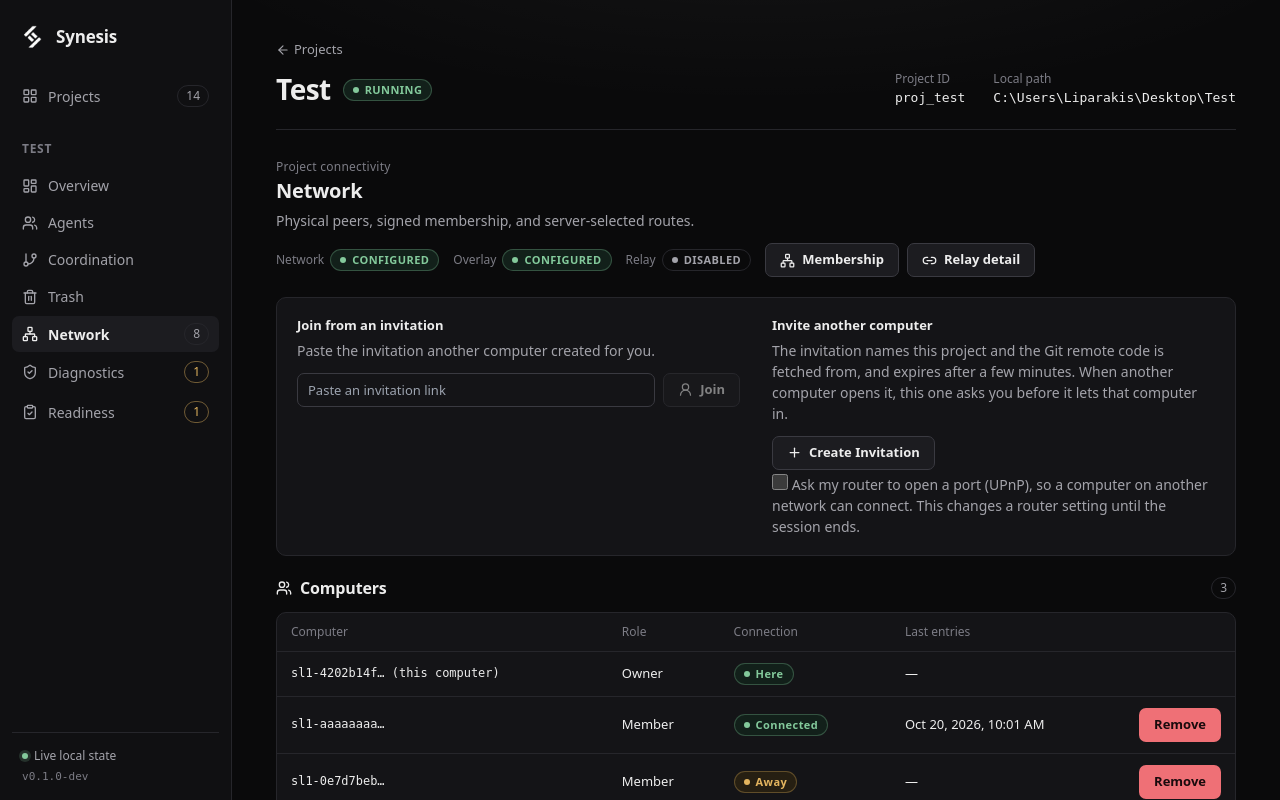
Scenario: the project's computers › asks before it removes a computer, and only the confirmation removes it
expect the heading "Computers" is shown: met, box [276,576,387,600]
Click the button with aria-label "Remove sl1-0e7d7beb…": (1180, 782) [1139,765,1221,799]
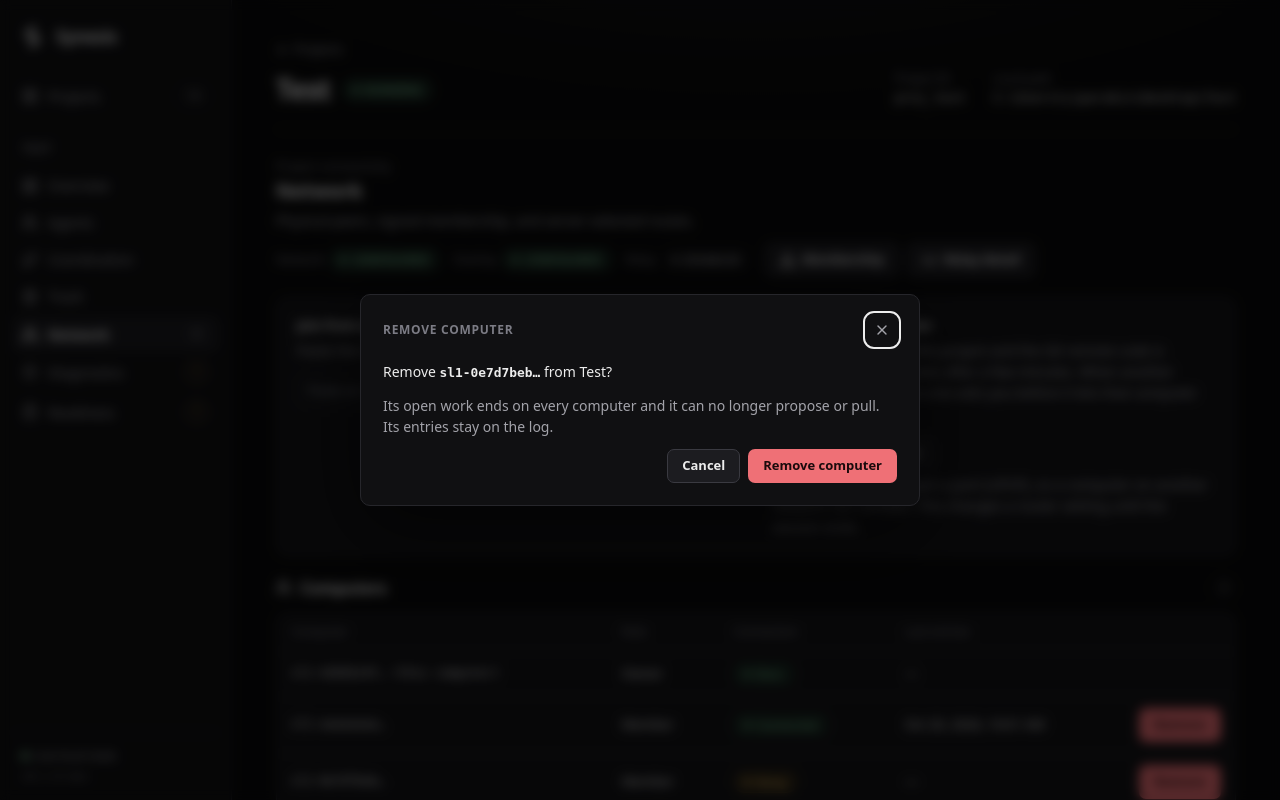
expect the text "Its open work ends on every computer" is shown: met, box [383,396,880,436]
Click the button "Remove computer": (823, 466) [748,449,897,483]
(page scrolled)
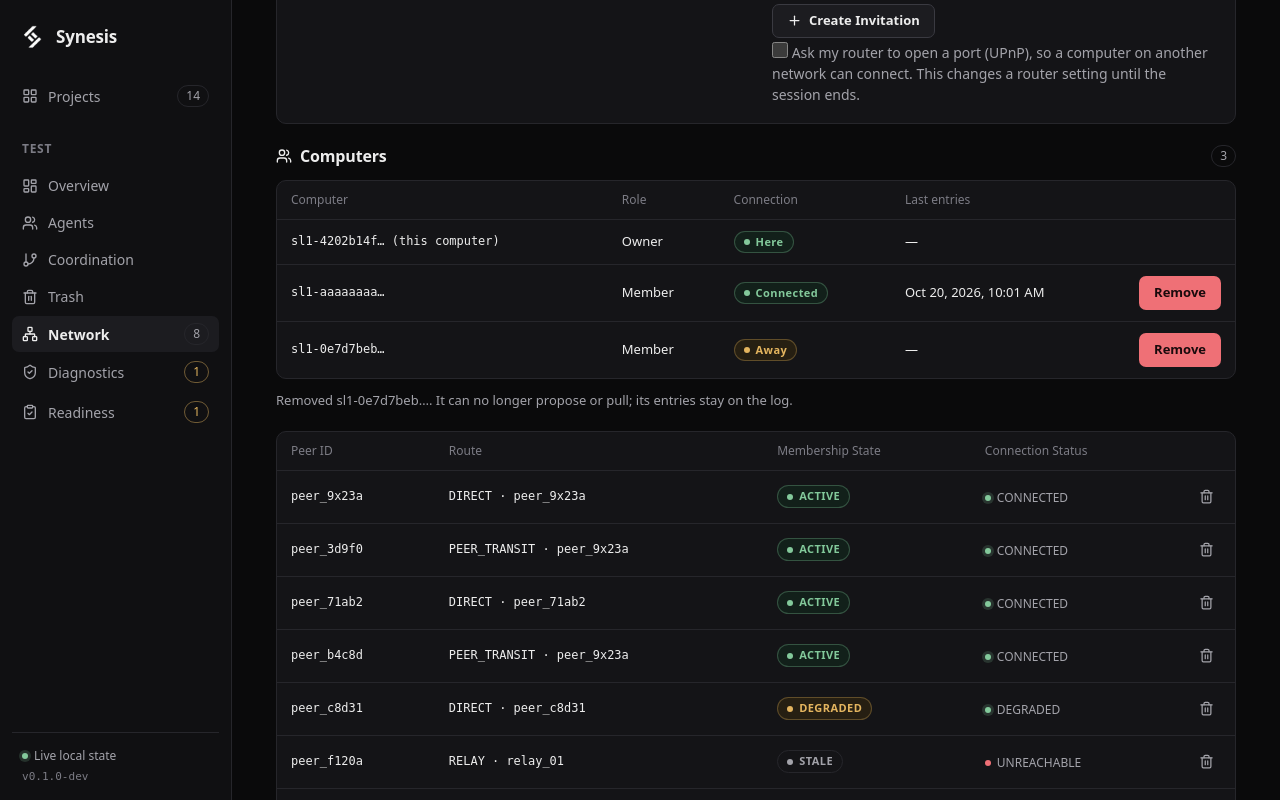
expect the text "Removed sl1-0e7d7beb…" is shown: met, box [276,391,793,409]
expect the dialog is gone: met
